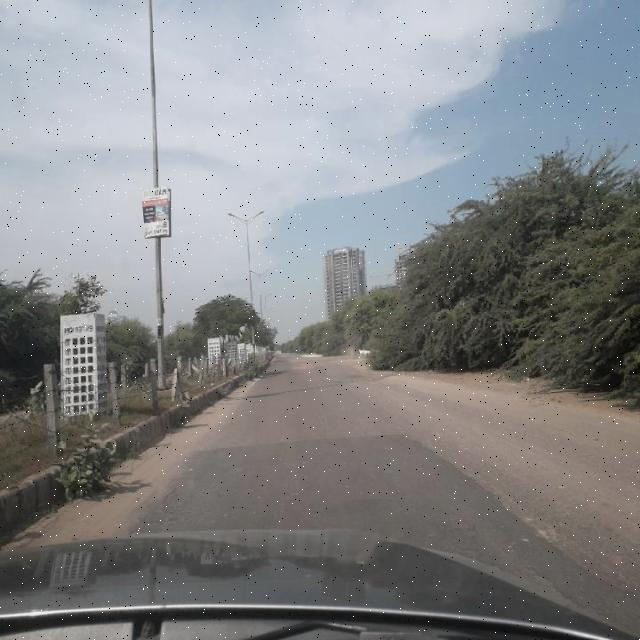D00: (446, 458, 620, 584)
D40: (140, 469, 193, 534)
